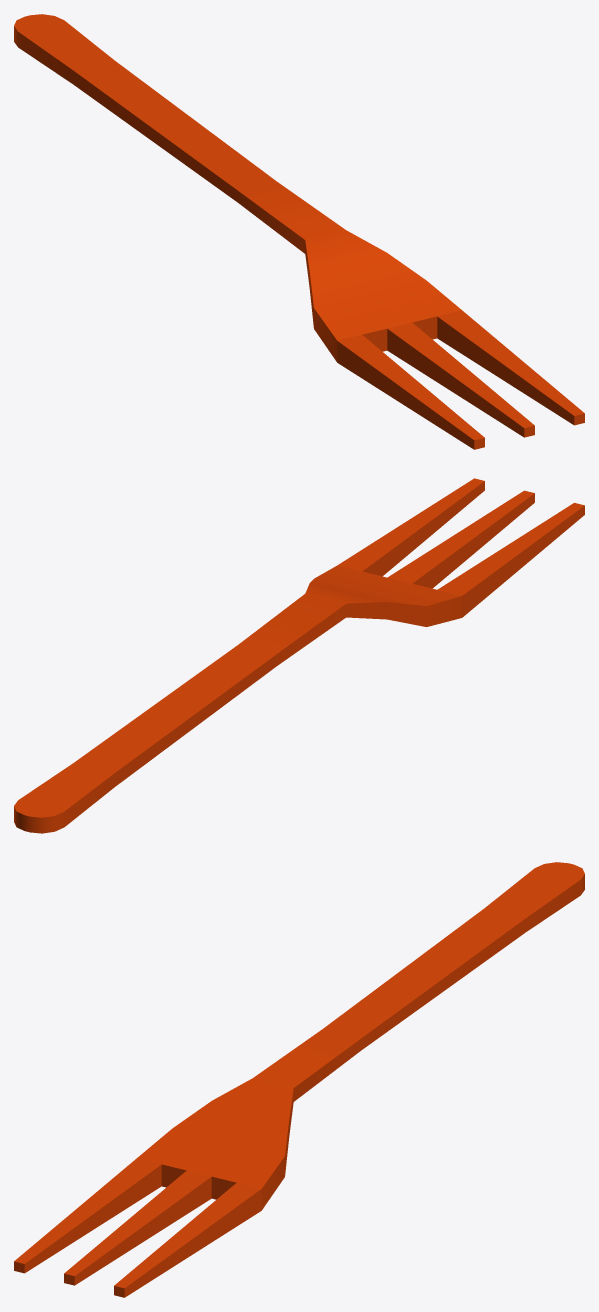
The model's file is Food Fork_2.fbx.
3 renders of one model, top to bottom at view 1: azimuth 30°, elevation 25°; view 2: azimuth 150°, elevation 25°; view 3: azimuth 330°, elevation 25°, orthographic.
Visible parts, largest first — view 1: Food Fork_2; view 2: Food Fork_2; view 3: Food Fork_2.
Boxes of the visible parts, box(x1,y1,x2,y2) form: Food Fork_2: box(14, 14, 584, 449); Food Fork_2: box(14, 478, 584, 833); Food Fork_2: box(14, 862, 584, 1297).
Size of the model in its own units: 0.0317 by 0.0144 by 0.2209.
